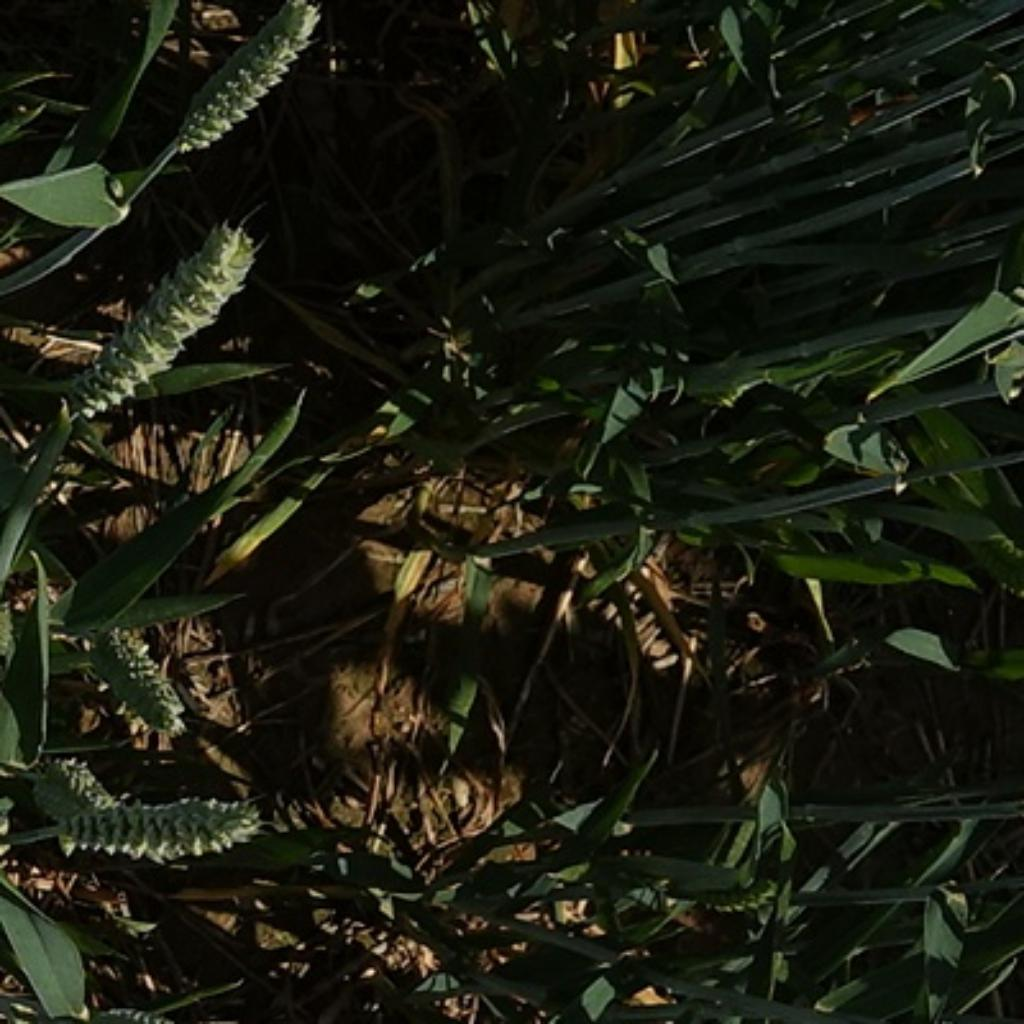0-0: (56, 214, 270, 412), (23, 775, 273, 867), (186, 2, 322, 153), (74, 609, 192, 732), (20, 744, 120, 821), (680, 878, 801, 924)
